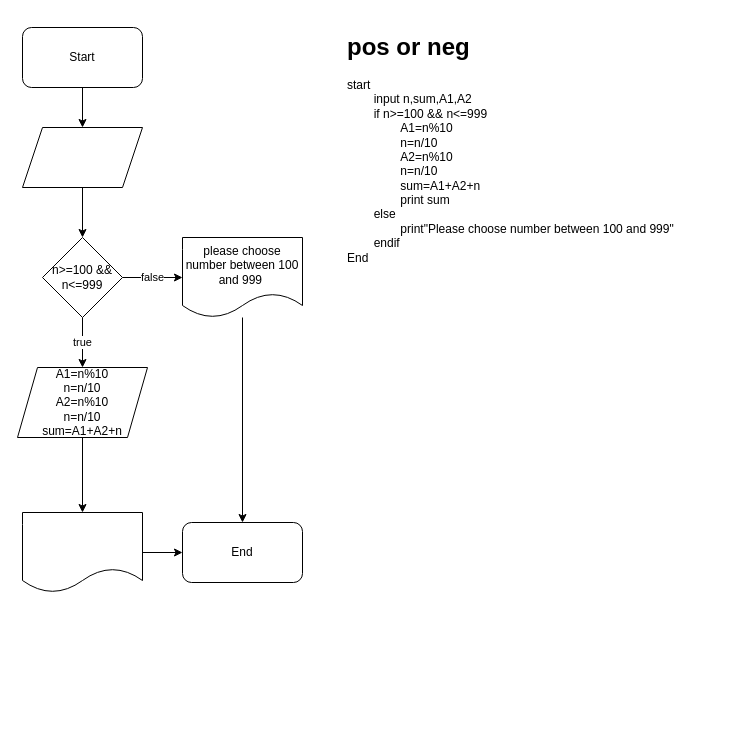
Some shapes in this 730 by 734 pixel diagram are drawn without their labels. The shapes that lost their labels are listed below. From the top down, each one's centre as x and y in pixels, then its label:
pixel 82 157: int n int sum int A1 int A2
pixel 82 552: sum
